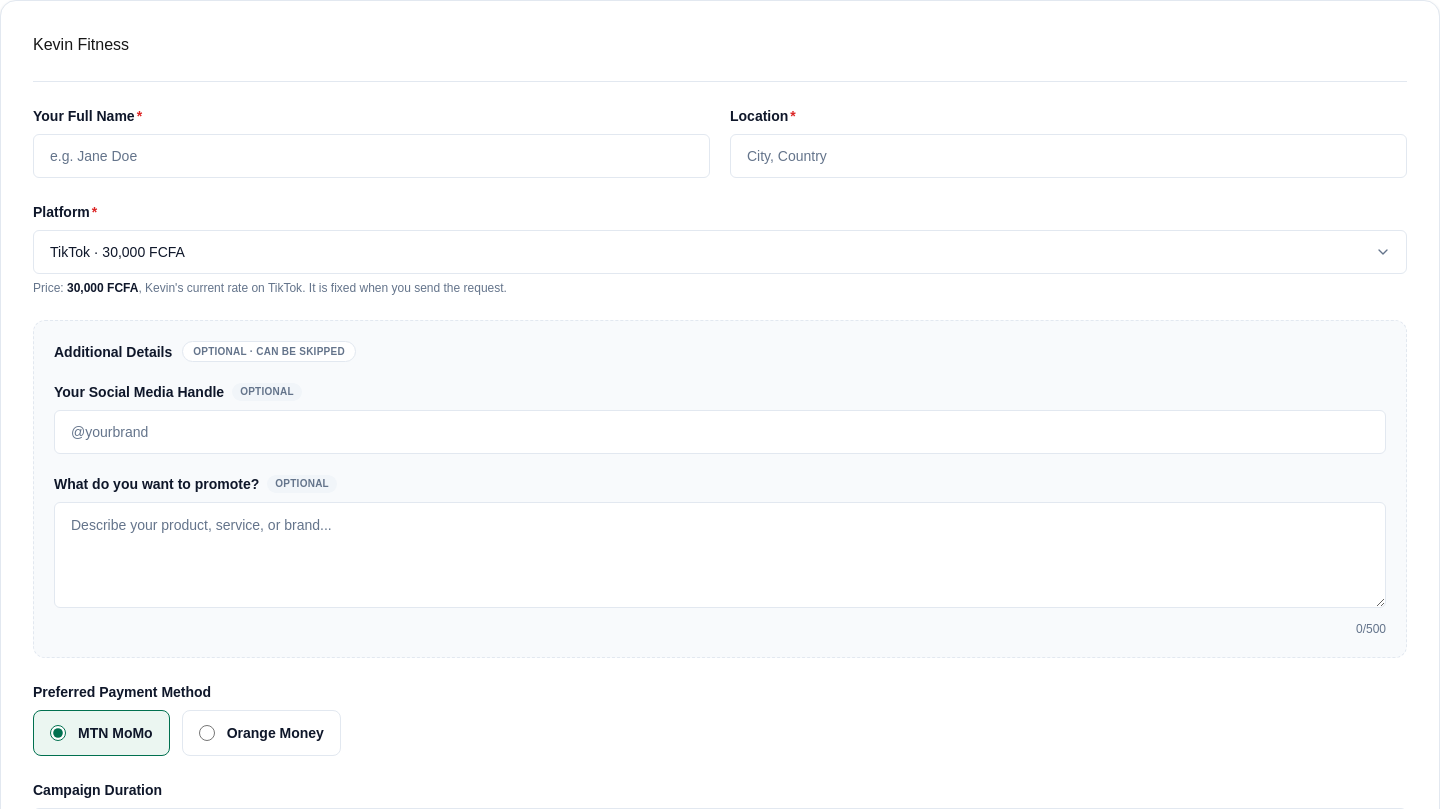
Test: hire form › sends the typed values and shows the API's confirmation (reference, price, platform) only after it confirmed
Type "Jane Brand" into the field labelled "Your Full Name*" at (372, 156), box x1=33 y1=134 x2=710 y2=178
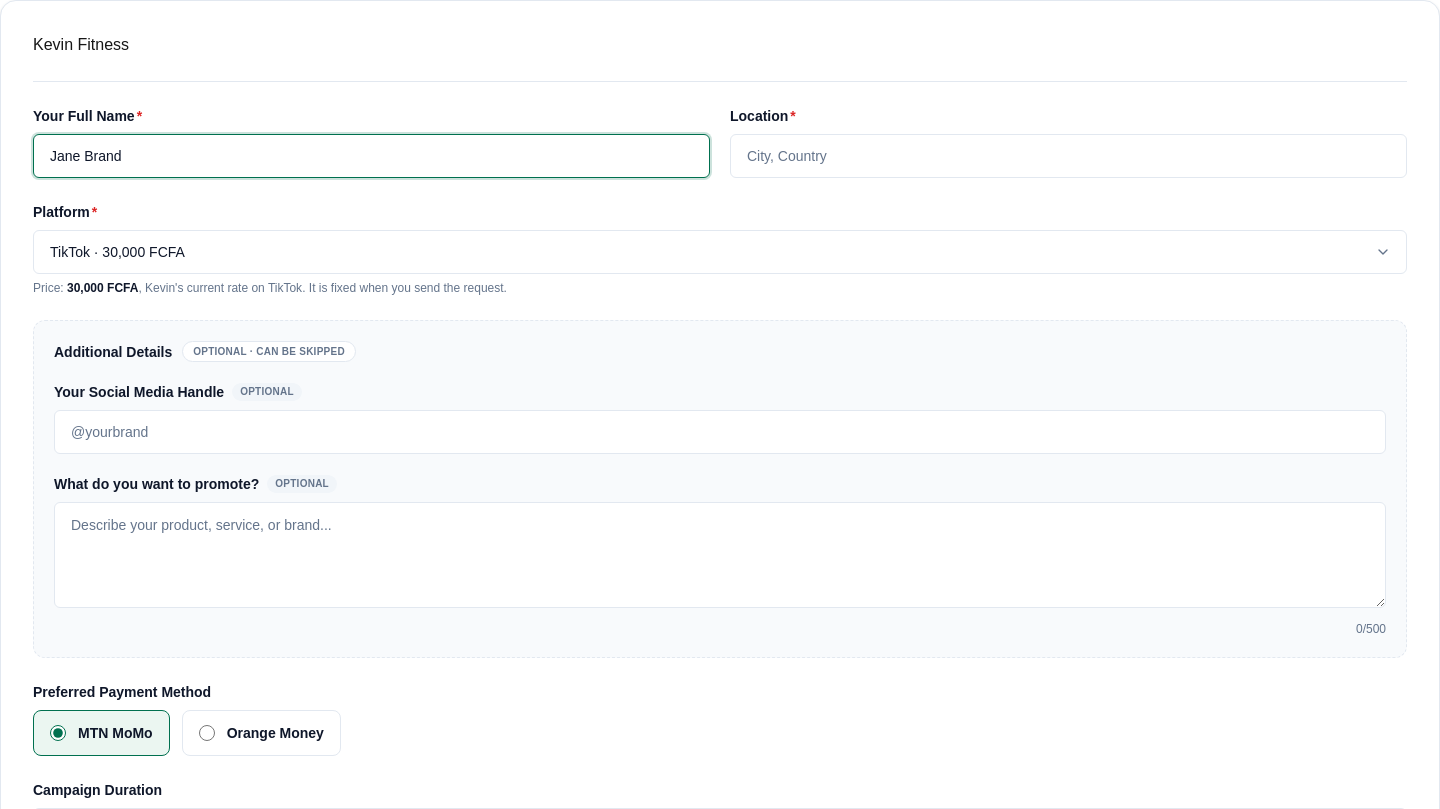
Type "Douala, Cameroon" into the field labelled "Location*" at (1068, 156), box x1=730 y1=134 x2=1407 y2=178
(page scrolled)
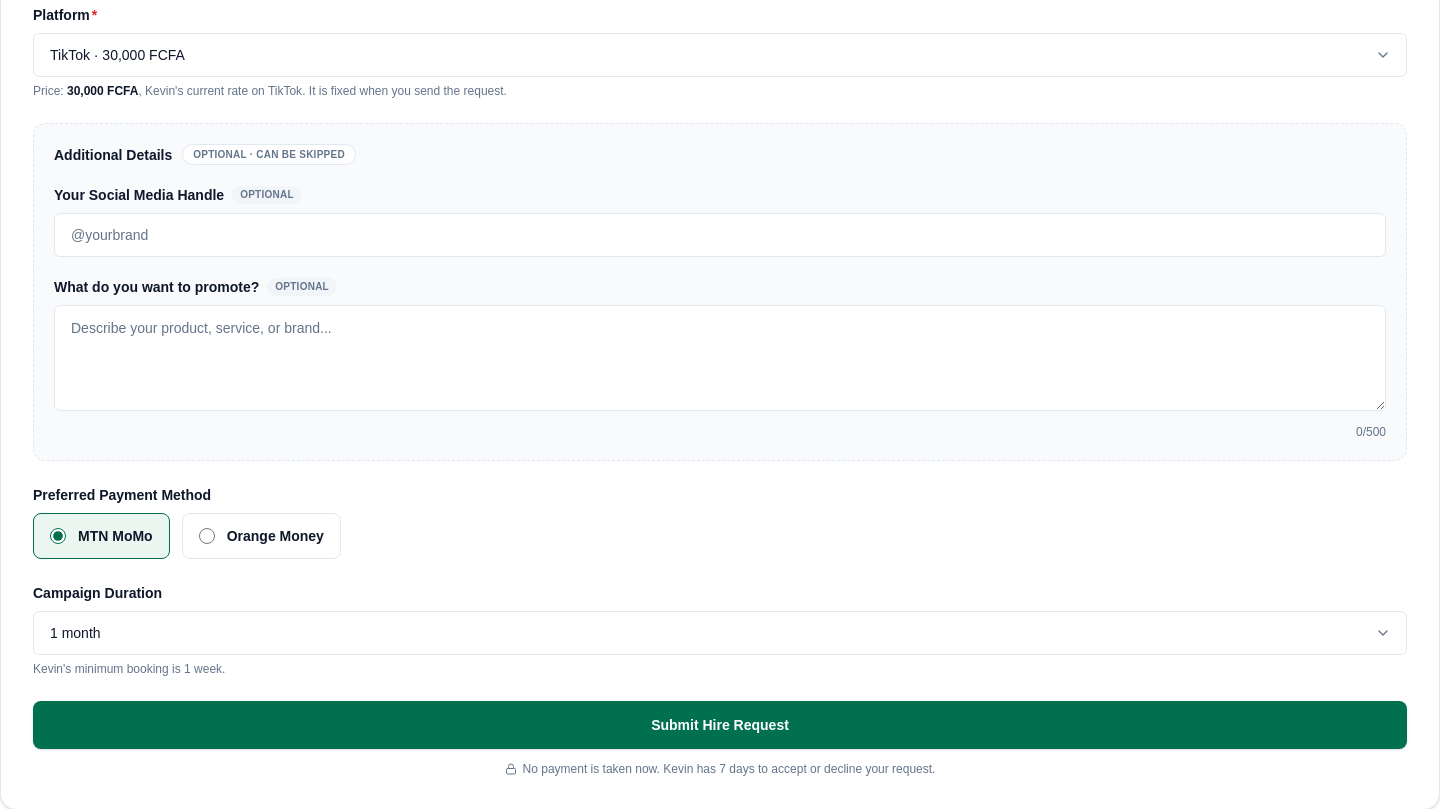
Click the button "Submit Hire Request" at (720, 725), box x1=33 y1=701 x2=1407 y2=749
(page scrolled)
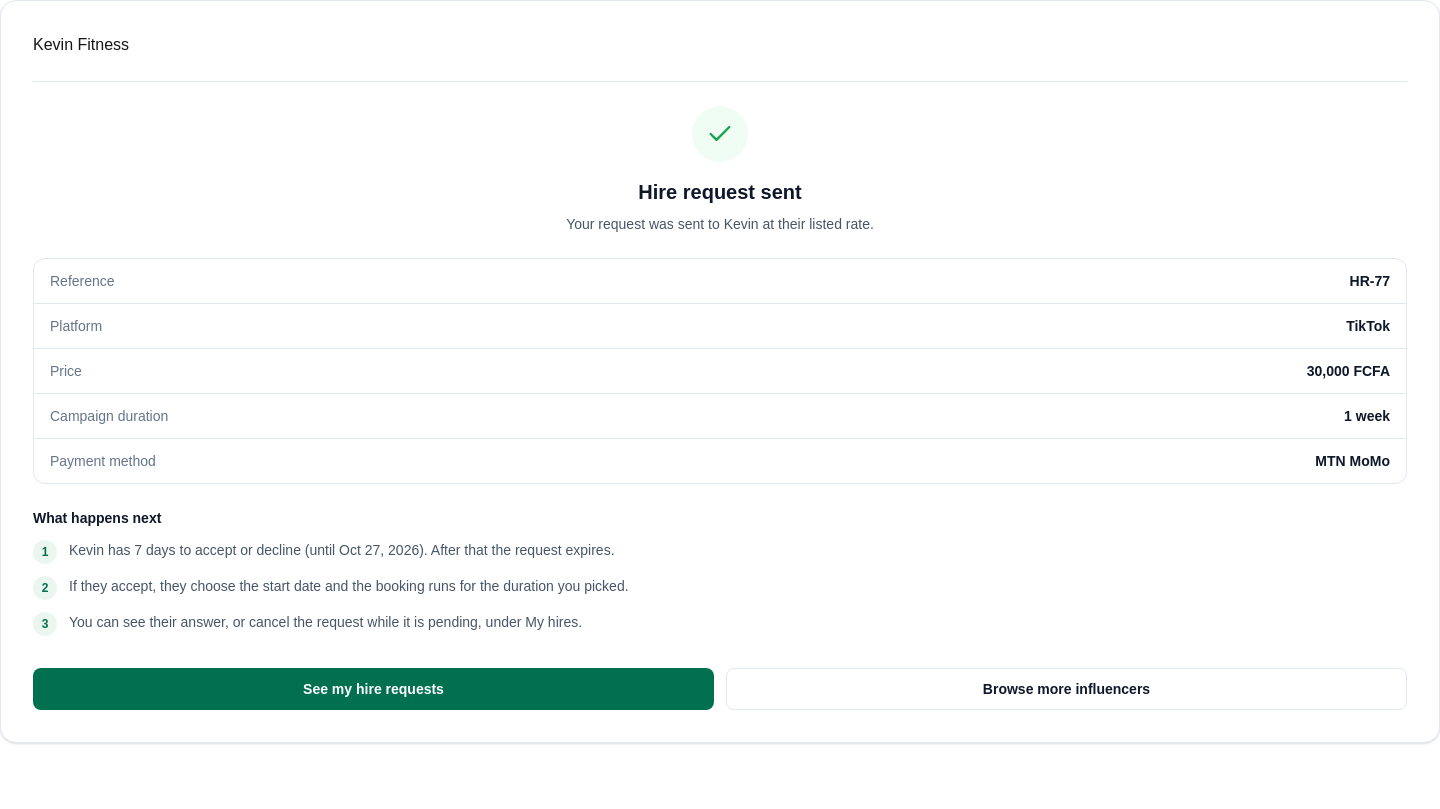
Expected: the text "30,000 FCFA" is shown, x1=1307 y1=361 x2=1390 y2=381
Expected: the heading "Hire request sent" is shown, x1=638 y1=181 x2=802 y2=203
Expected: the text "HR-77" is shown, x1=1350 y1=271 x2=1390 y2=291
